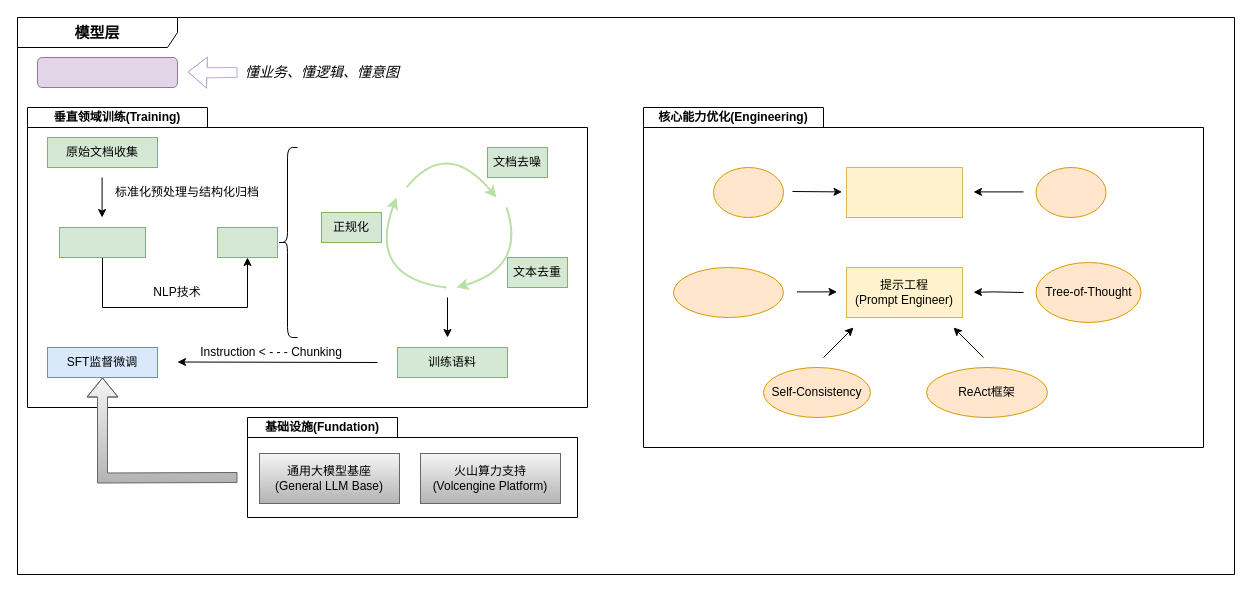
Image size: 1252x592. Some labels were removed from this diagram. Each missing label, with the centre of its shape:
"Chain-of-Thought（CoT）" goes at point 728,292.
"Johnson AI Core" goes at point 107,72.
"Memory" goes at point 1070,192.
"RAG" goes at point 748,192.
"内容清洗" goes at point 247,242.
"文档结构特点" goes at point 102,242.
"长上下文工程 (Context Engineer)" goes at point 904,192.
